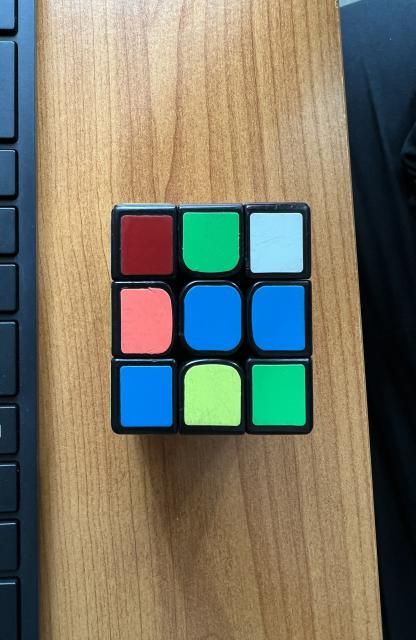Blue: (184, 285, 242, 351), (251, 285, 306, 350), (120, 366, 172, 428)
Green: (183, 212, 239, 272), (252, 364, 306, 426)
Orange: (120, 288, 172, 354)
Red: (120, 215, 173, 275)
White: (250, 212, 303, 272)
Yellow: (184, 364, 242, 426)
